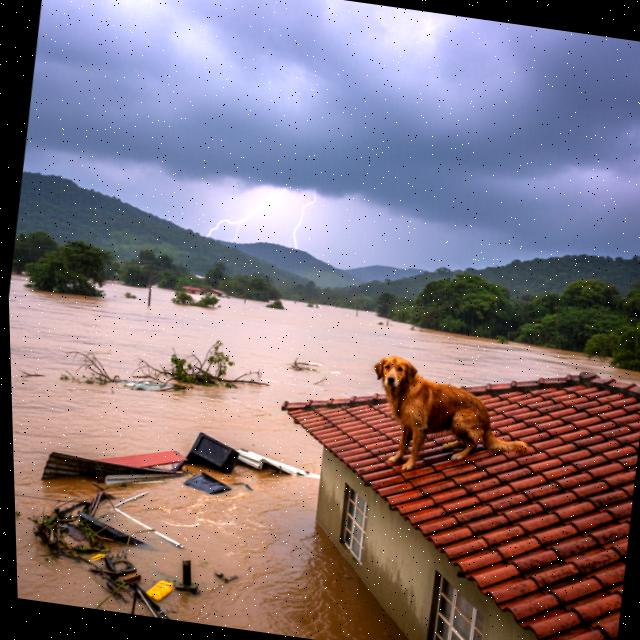dog: (348, 348, 544, 490)
